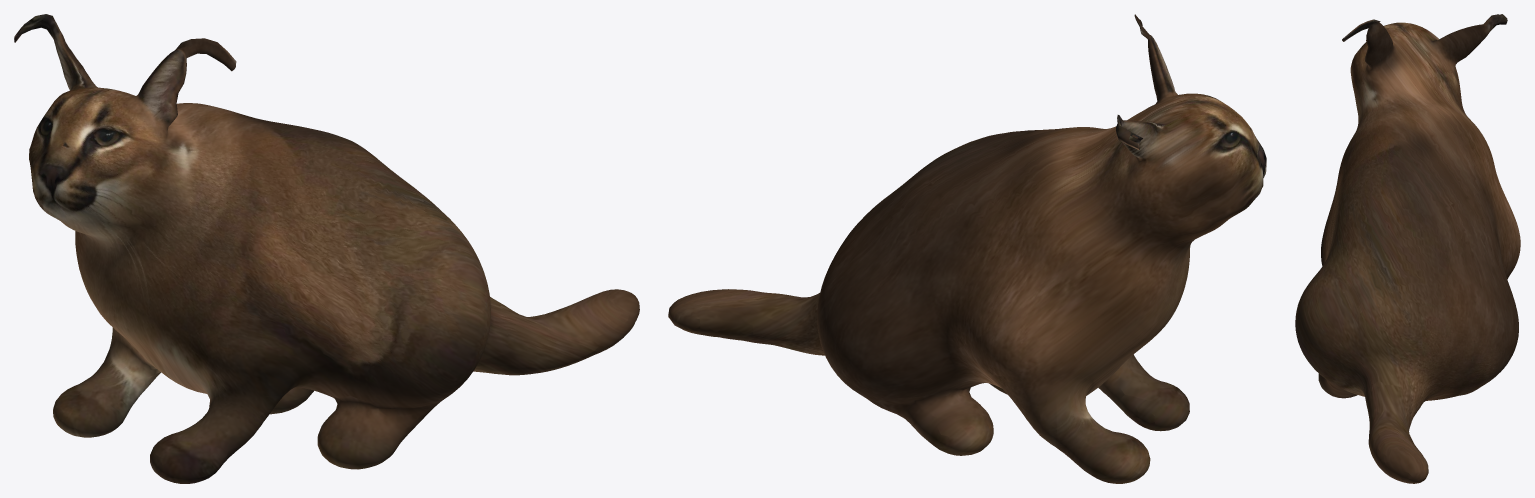
File: floppa.glb
3 views of the same model, side by side, from view 1: azimuth 30°, elevation 25°; view 2: azimuth 150°, elevation 25°; view 3: azimuth 270°, elevation 25° (orthographic). The views are drawn at different scales.
Parts seen in each view (by area): view 1: flop; view 2: flop; view 3: flop.
Part boxes in pixels (x1=…): flop: x1=14, y1=14, x2=639, y2=483; flop: x1=668, y1=14, x2=1266, y2=483; flop: x1=1295, y1=14, x2=1520, y2=483.
Size of the model in its own units: 1.33 by 0.9218 by 0.5786.
1 material, 1 textured.
